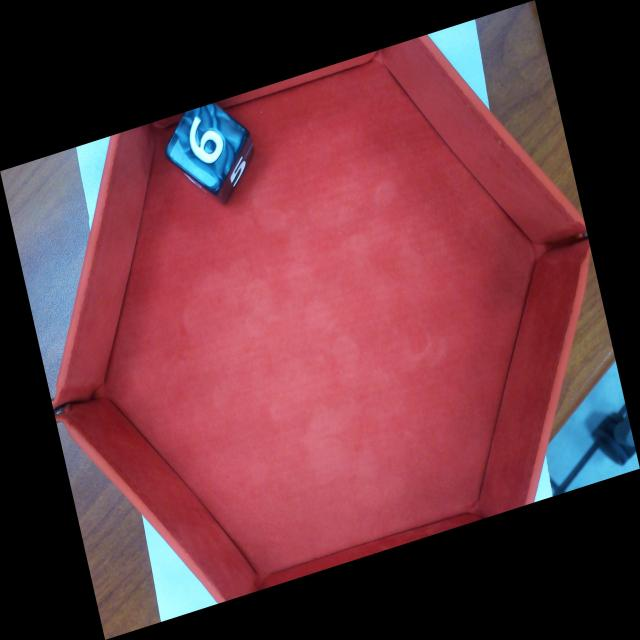dice: (163, 89, 252, 198)
